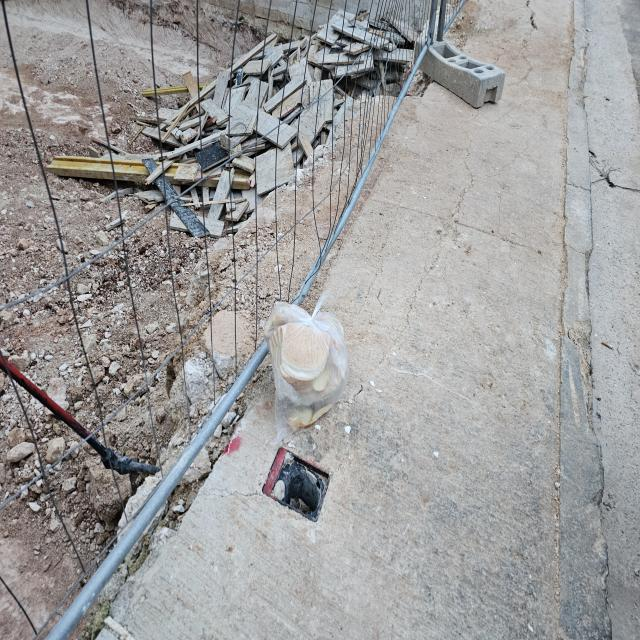white_bag: (259, 287, 356, 446)
